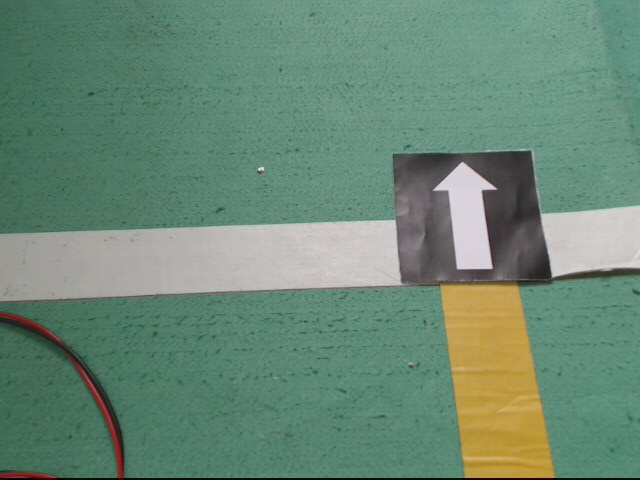straight: (394, 145, 548, 285)
